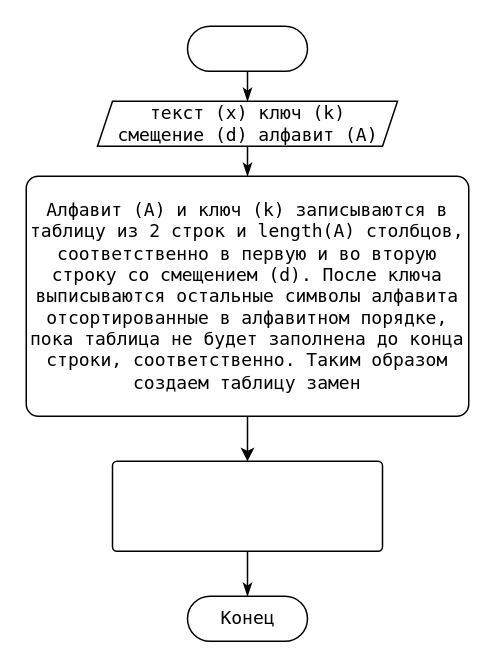
Image size: 495x668. Some labels were removed from this diagram. Here are the shapes that lost their labels. From the top down, the centre of each, then its label:
At pixel 247 48: "Начало".
At pixel 246 505: "С помощью созданной таблицы заменяем каждый символ текста (x)".
